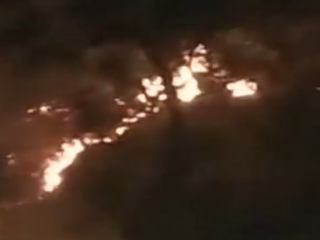fire: (175, 54, 266, 101), (33, 129, 93, 193), (113, 73, 166, 117)
